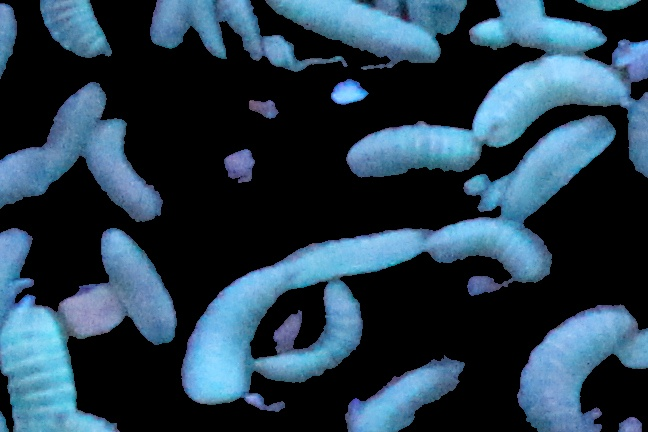larvae: (517, 306, 639, 432), (466, 55, 629, 146), (181, 259, 278, 404), (503, 115, 616, 221), (251, 278, 362, 385), (269, 1, 443, 66), (102, 225, 177, 351), (1, 294, 70, 430), (429, 214, 553, 287), (281, 225, 429, 285), (87, 120, 167, 228), (351, 357, 461, 432), (345, 124, 481, 179), (42, 85, 106, 181), (39, 1, 123, 61), (471, 16, 604, 51), (211, 1, 268, 60), (186, 1, 229, 61), (1, 229, 32, 311), (1, 148, 54, 195), (148, 1, 191, 48), (53, 406, 116, 432)
